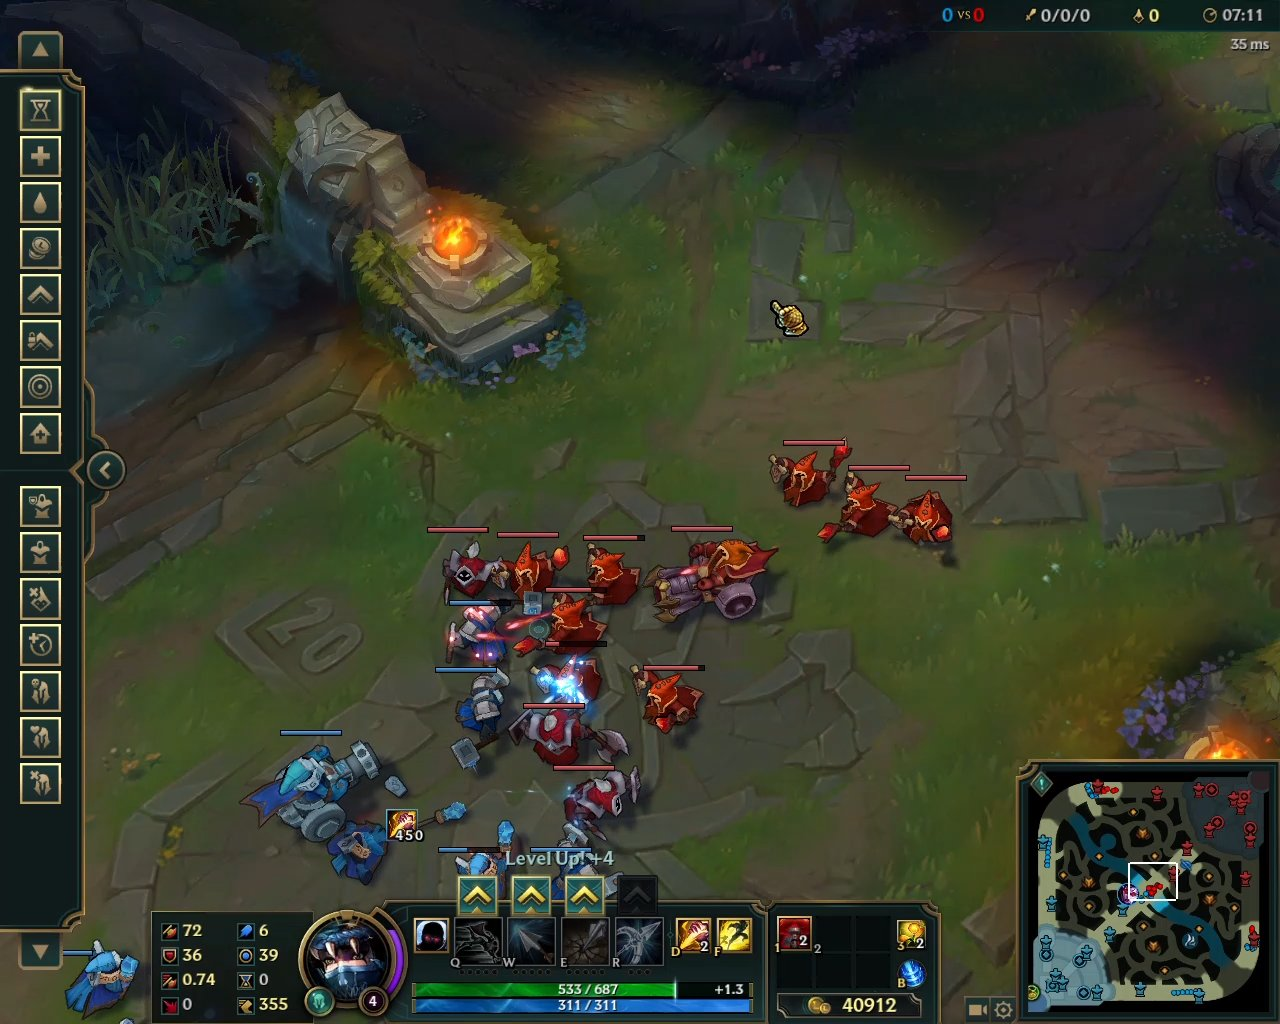EnemyMinion: (644, 523, 786, 630), (542, 758, 649, 841), (814, 462, 906, 552), (506, 704, 626, 769), (761, 436, 854, 512), (516, 585, 611, 659), (881, 475, 968, 554), (628, 660, 709, 741), (425, 523, 503, 606), (486, 533, 571, 605), (571, 533, 647, 612), (532, 641, 609, 714)
